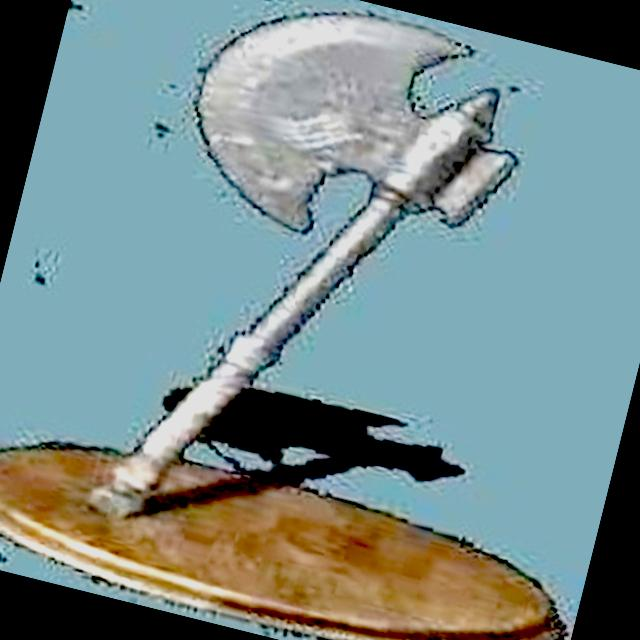ax: (56, 0, 555, 602)
